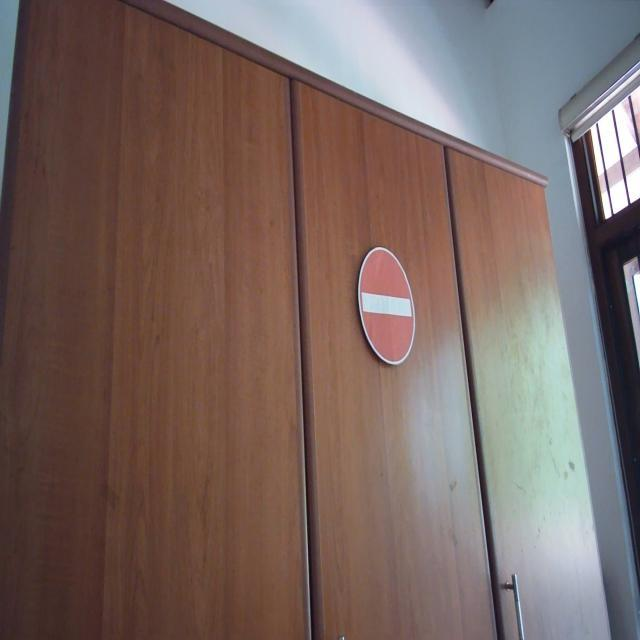no_entry: (355, 244, 417, 369)
